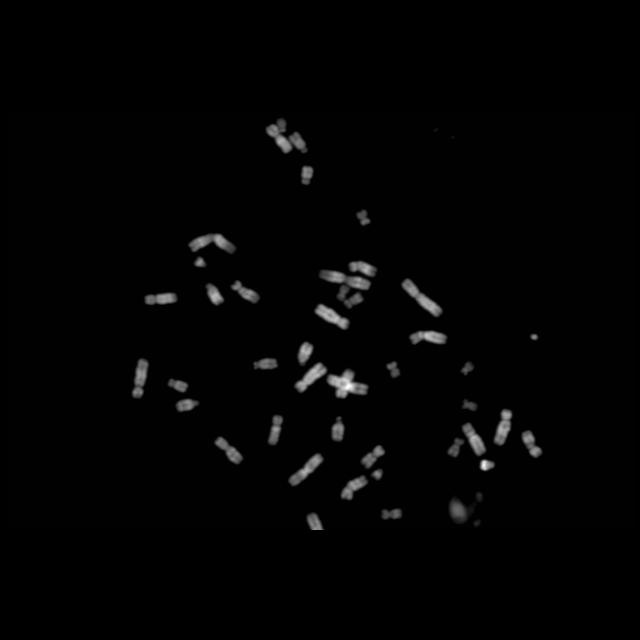chromosome: (403, 278, 443, 316), (288, 454, 324, 486), (189, 232, 236, 255), (318, 270, 370, 290), (314, 303, 351, 329), (326, 374, 368, 396), (296, 363, 326, 393), (264, 125, 292, 155), (461, 422, 485, 456), (215, 438, 243, 464), (340, 474, 368, 500), (494, 408, 512, 446), (231, 281, 259, 305), (132, 359, 148, 399), (520, 430, 542, 458), (360, 445, 386, 467), (409, 330, 446, 344), (348, 260, 376, 278), (336, 370, 354, 398), (446, 500, 468, 522), (268, 415, 284, 445), (144, 292, 178, 306), (204, 284, 223, 306), (175, 397, 200, 413), (330, 417, 346, 441), (292, 131, 308, 155), (298, 343, 312, 367), (167, 378, 188, 394), (447, 437, 463, 458), (344, 292, 364, 308), (381, 507, 402, 521), (307, 512, 323, 530), (254, 358, 276, 370), (301, 166, 313, 186), (356, 210, 370, 227), (334, 286, 350, 300), (481, 458, 495, 474), (386, 362, 399, 378), (461, 360, 473, 376), (462, 400, 478, 412), (277, 118, 287, 134), (193, 258, 207, 268), (371, 470, 383, 480)
